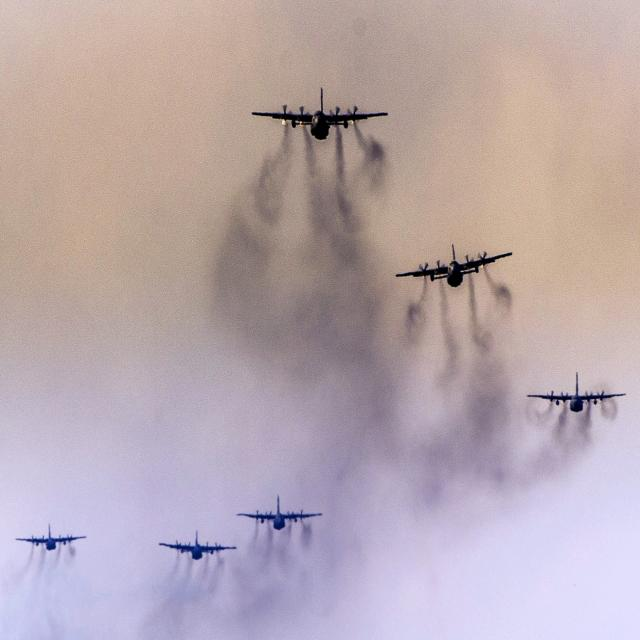MIL_Plane: (251, 86, 389, 140), (234, 495, 318, 530), (158, 532, 238, 558), (15, 523, 86, 550), (396, 260, 512, 271), (528, 67, 625, 76)
